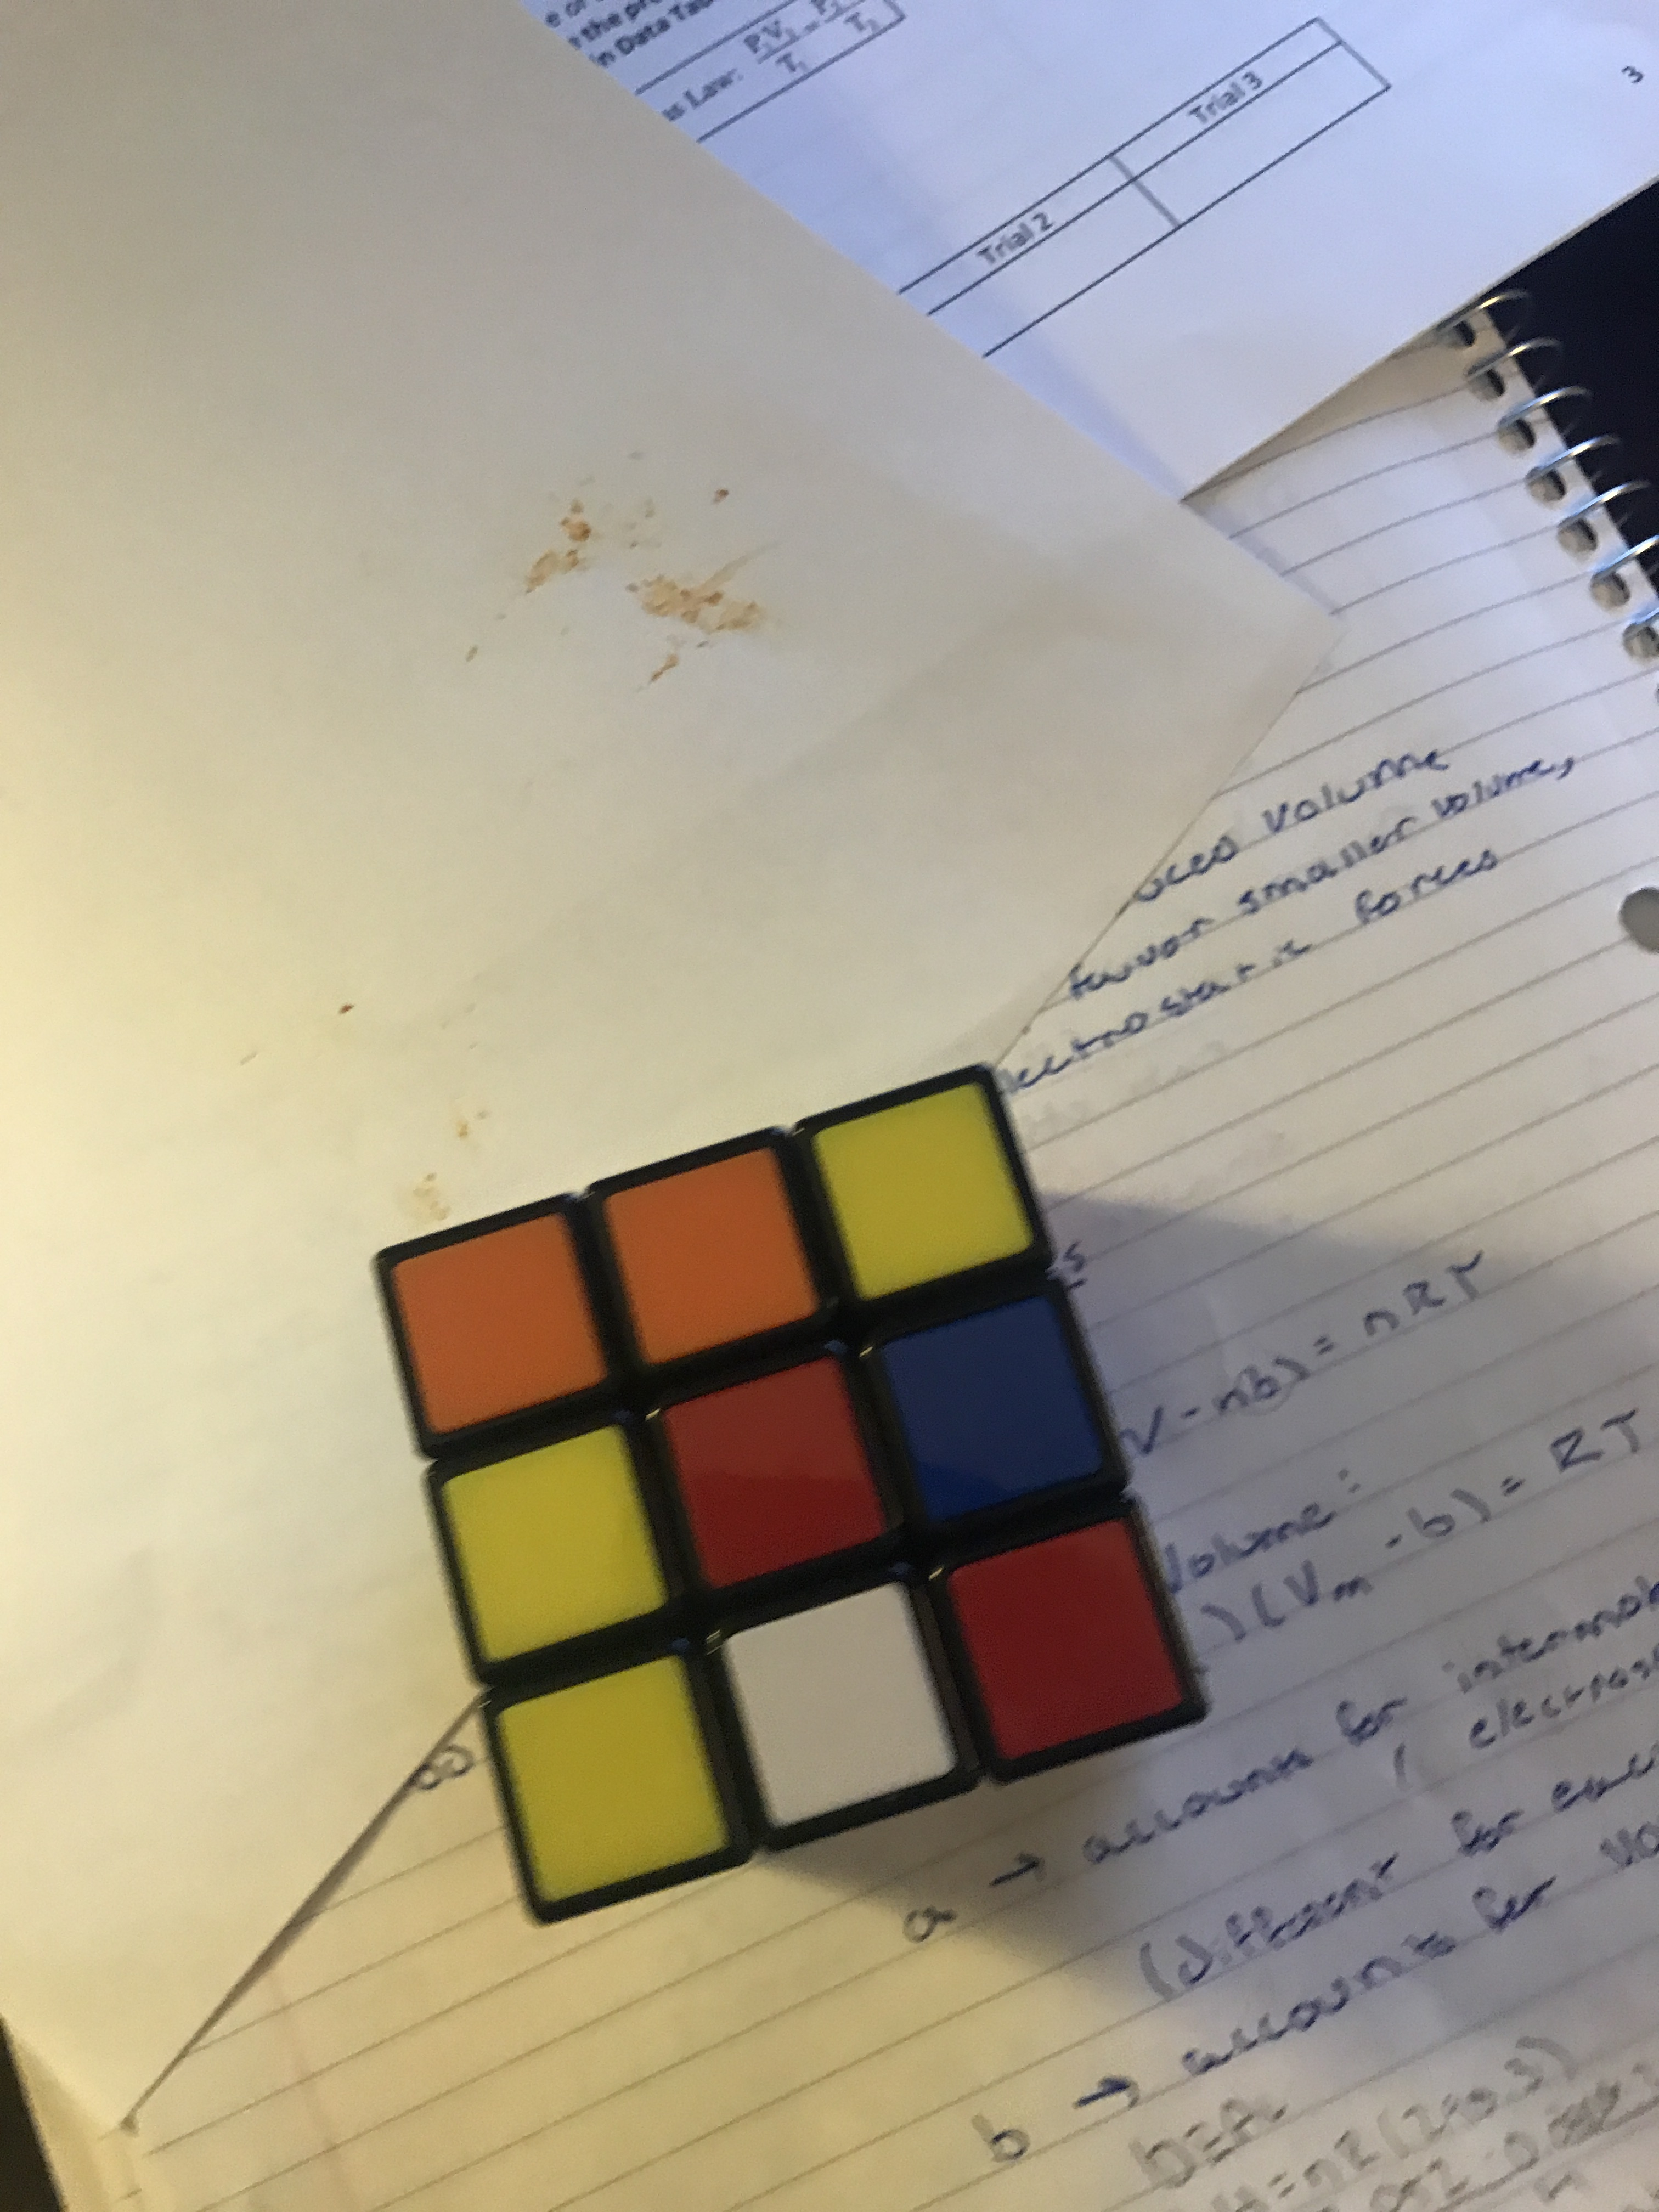rubiks: (373, 1073, 1216, 1928)
